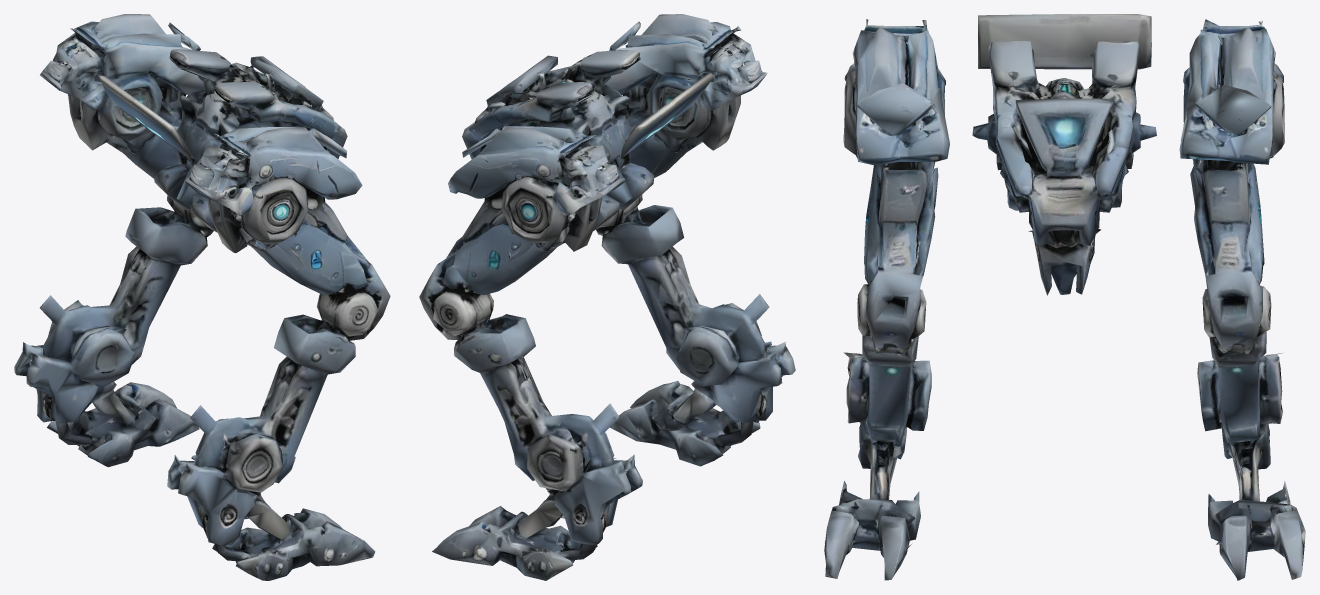
3 views of the same model, side by side, from view 1: azimuth 30°, elevation 25°; view 2: azimuth 150°, elevation 25°; view 3: azimuth 270°, elevation 25° (orthographic). The views are drawn at different scales.
Visible parts, largest first — view 1: tripo_node_5af342db-520b-48cd-8bd8-1a27496e5c27; view 2: tripo_node_5af342db-520b-48cd-8bd8-1a27496e5c27; view 3: tripo_node_5af342db-520b-48cd-8bd8-1a27496e5c27.
Boxes of the visible parts, x1,y1,x2,y2 form: tripo_node_5af342db-520b-48cd-8bd8-1a27496e5c27: (14, 14, 390, 580); tripo_node_5af342db-520b-48cd-8bd8-1a27496e5c27: (419, 14, 795, 580); tripo_node_5af342db-520b-48cd-8bd8-1a27496e5c27: (824, 14, 1305, 580).
Bounding box in the file's own units: 0.5803 × 0.998 × 0.8609.
Materials: 1 (1 with a texture image).
